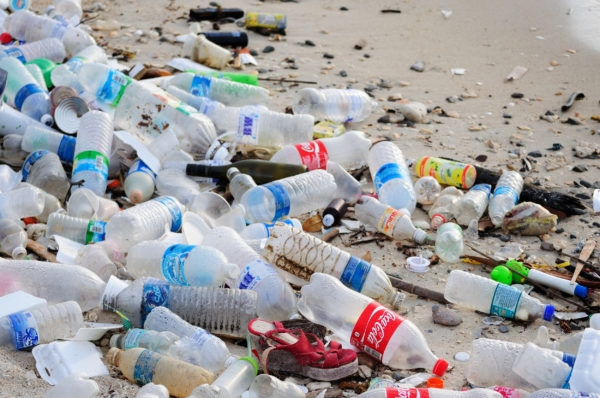plastic: (292, 272, 453, 376), (77, 65, 225, 162), (259, 223, 412, 308), (88, 270, 261, 331), (1, 245, 124, 319), (459, 329, 587, 397), (236, 161, 352, 232), (101, 180, 197, 258), (196, 95, 319, 150), (58, 102, 121, 208), (121, 238, 241, 291), (99, 343, 219, 394), (441, 266, 558, 317), (263, 123, 373, 175), (148, 302, 234, 368), (1, 294, 89, 355), (364, 133, 416, 218), (15, 139, 80, 207), (1, 53, 57, 127), (478, 165, 538, 229), (406, 150, 489, 194), (352, 195, 430, 241), (39, 208, 124, 250), (429, 217, 471, 270), (523, 264, 588, 296), (1, 212, 34, 263)
